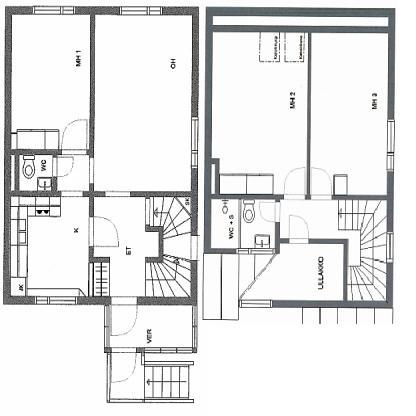bathroom: (16, 151, 58, 198)
door: (107, 293, 140, 338), (60, 117, 92, 156), (108, 346, 138, 385), (86, 216, 120, 249), (280, 166, 308, 202), (287, 213, 312, 247), (309, 167, 334, 200), (49, 154, 77, 180), (256, 198, 284, 224)
perimeter: (3, 7, 394, 312)
stairs: (336, 196, 395, 309), (144, 192, 198, 306), (142, 363, 194, 402)
window: (382, 115, 398, 176), (186, 116, 202, 171), (31, 292, 80, 308), (379, 230, 397, 264)
